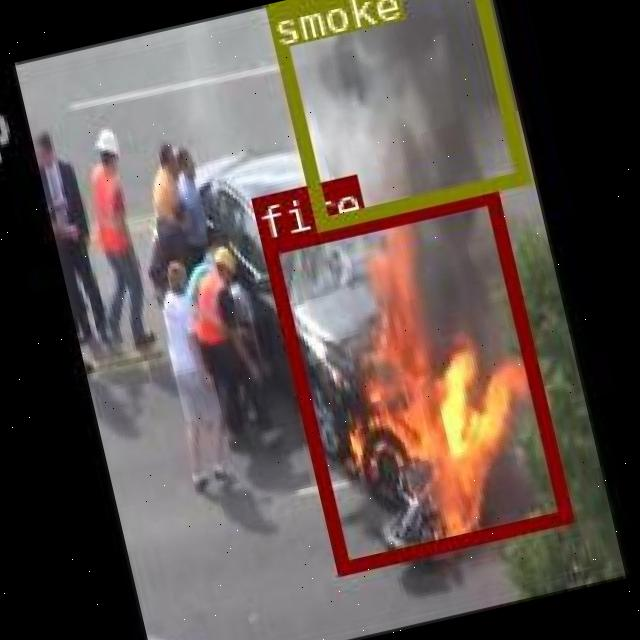fire: (259, 188, 570, 573)
smoke: (262, 0, 528, 230)
